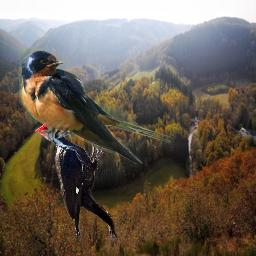Swallow: (19, 48, 171, 164)
Woodpecker: (34, 111, 118, 241)
